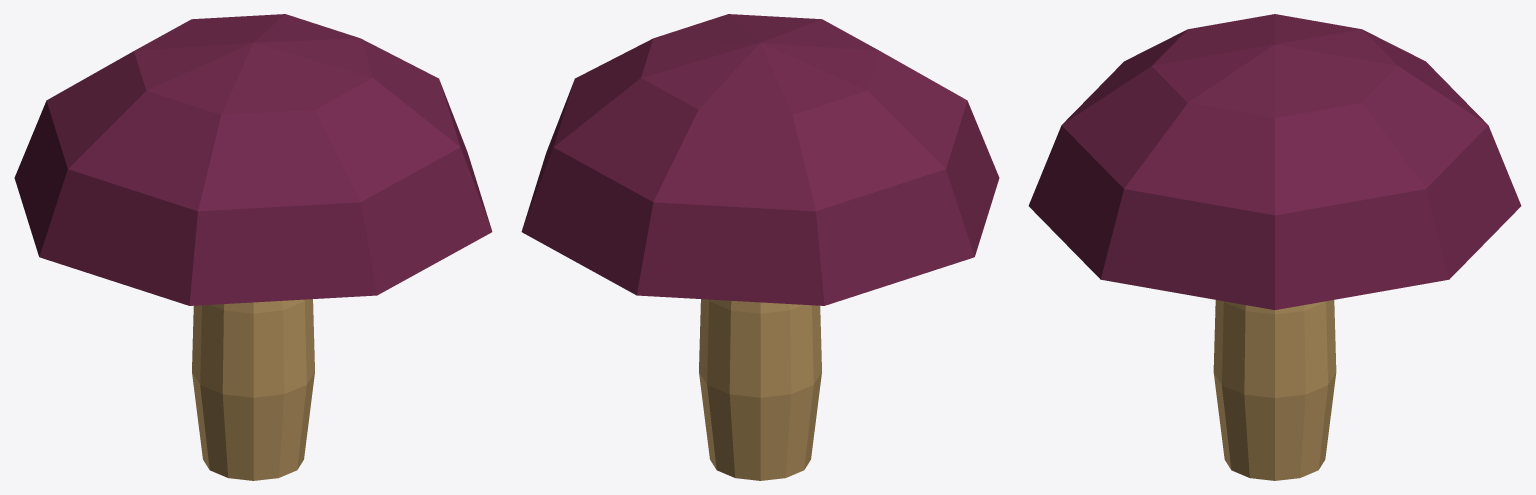
File: Shroom2.fbx
3 renders of one model, left to right at view 1: azimuth 30°, elevation 25°; view 2: azimuth 150°, elevation 25°; view 3: azimuth 270°, elevation 25°, orthographic.
Visible parts, largest first — view 1: Sphere, Cylinder; view 2: Sphere, Cylinder; view 3: Sphere, Cylinder.
Part boxes in pixels (x1=…): Sphere: x1=14, y1=14, x2=492, y2=305; Cylinder: x1=192, y1=299, x2=314, y2=480; Sphere: x1=521, y1=14, x2=999, y2=305; Cylinder: x1=699, y1=299, x2=821, y2=480; Sphere: x1=1028, y1=14, x2=1521, y2=309; Cylinder: x1=1213, y1=300, x2=1336, y2=480.
Bounding box in the file's own units: 350 × 325 × 350.
